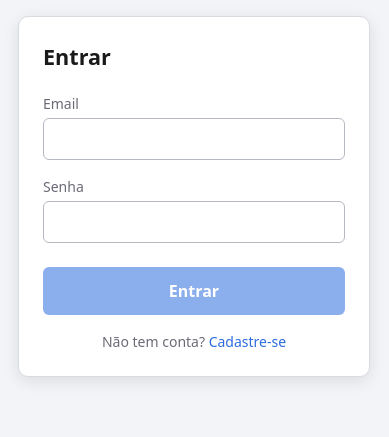
LoginView › shows the generic server error inline (not in an alert) on 401
Type "a@b.com" into the field with test id "email" at coordinates (194, 139), box [43,118,345,160]
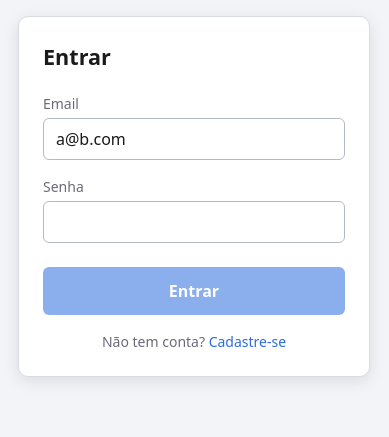
Type "wrong" into the password field with test id "password" at coordinates (194, 222), box [43,201,345,243]
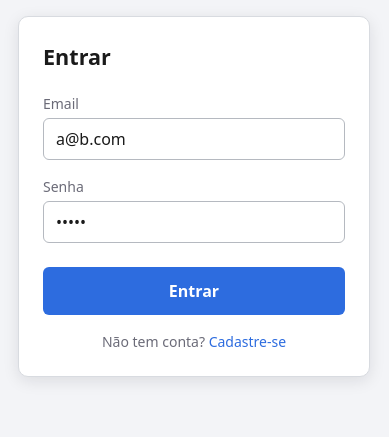
Submit the form, box [43,93,345,352]
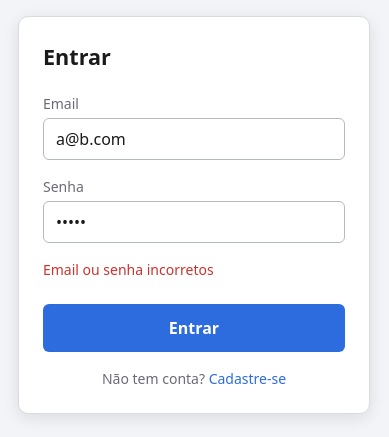
expect the message with test id "form-error" reads "Email ou senha incorretos": met, box [43,260,214,279]
